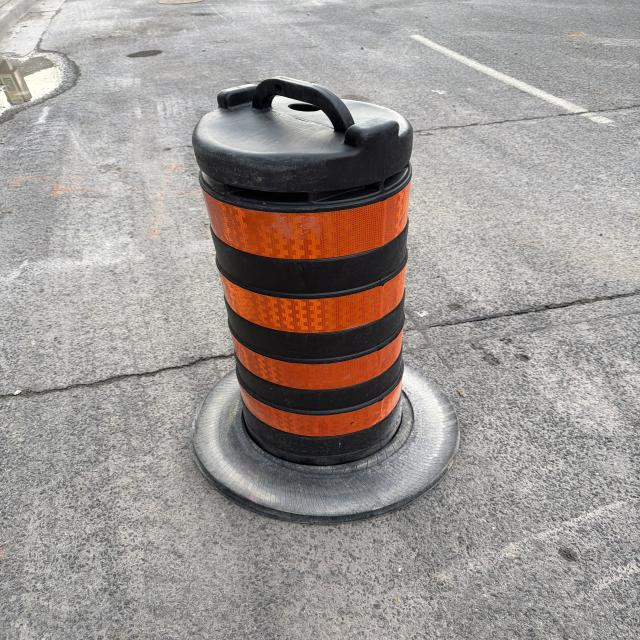Teraffic Barrel: (192, 77, 457, 517)
